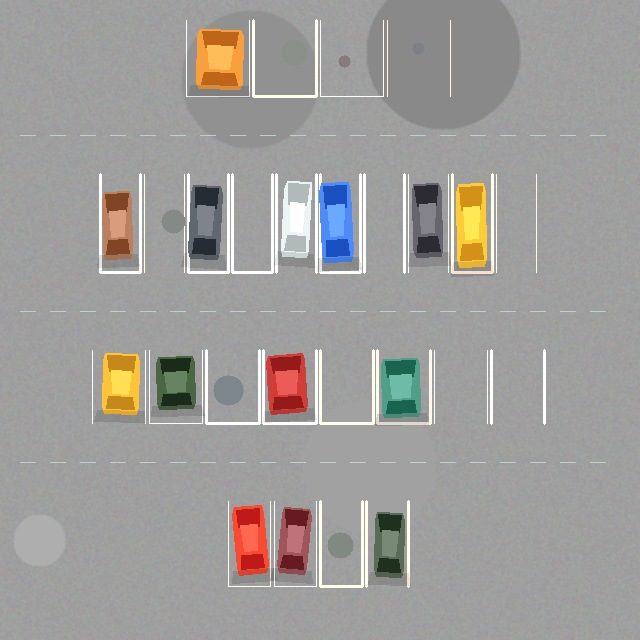space-empty: (253, 20, 316, 96), (320, 20, 383, 96), (387, 20, 450, 96), (144, 174, 184, 272), (232, 174, 272, 272), (364, 174, 404, 272), (496, 174, 536, 272), (206, 350, 259, 423), (320, 350, 373, 423), (434, 350, 487, 423), (491, 350, 544, 423), (320, 501, 362, 586)
space-occupied: (186, 20, 249, 96), (100, 174, 140, 272), (188, 174, 228, 272), (276, 174, 316, 272), (320, 174, 360, 272), (408, 174, 448, 272), (452, 174, 492, 272), (92, 350, 145, 423), (149, 350, 202, 423), (263, 350, 316, 423), (377, 350, 430, 423), (228, 501, 270, 586), (274, 501, 316, 586), (366, 501, 408, 586)
